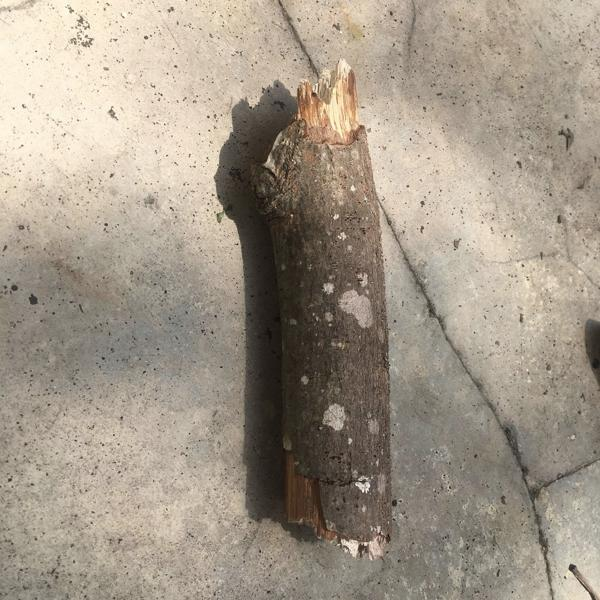Organik: (223, 46, 433, 573)
